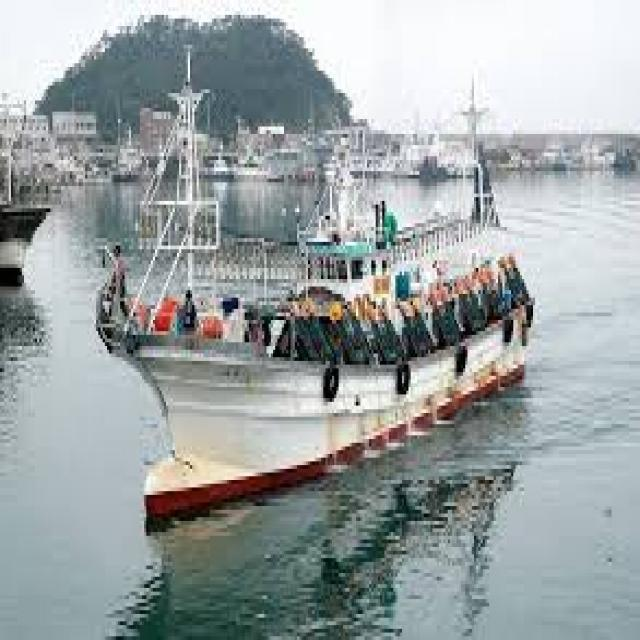Ship: (80, 139, 546, 545)
